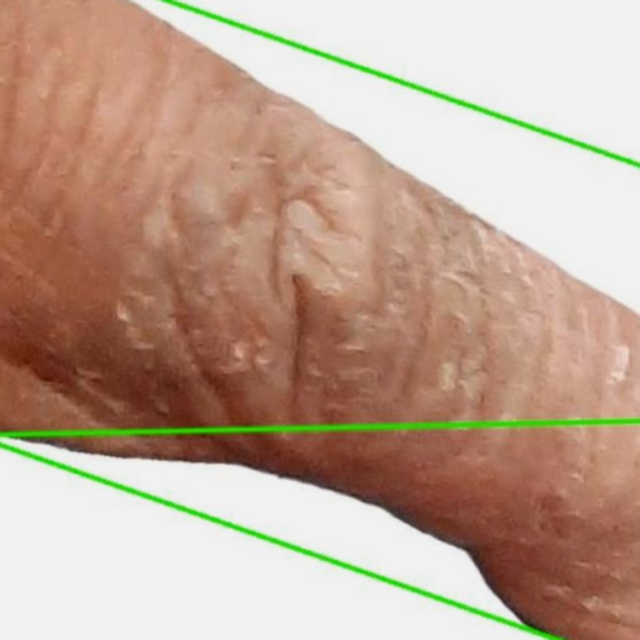Eczema: (0, 0, 639, 639), (0, 420, 639, 639)
